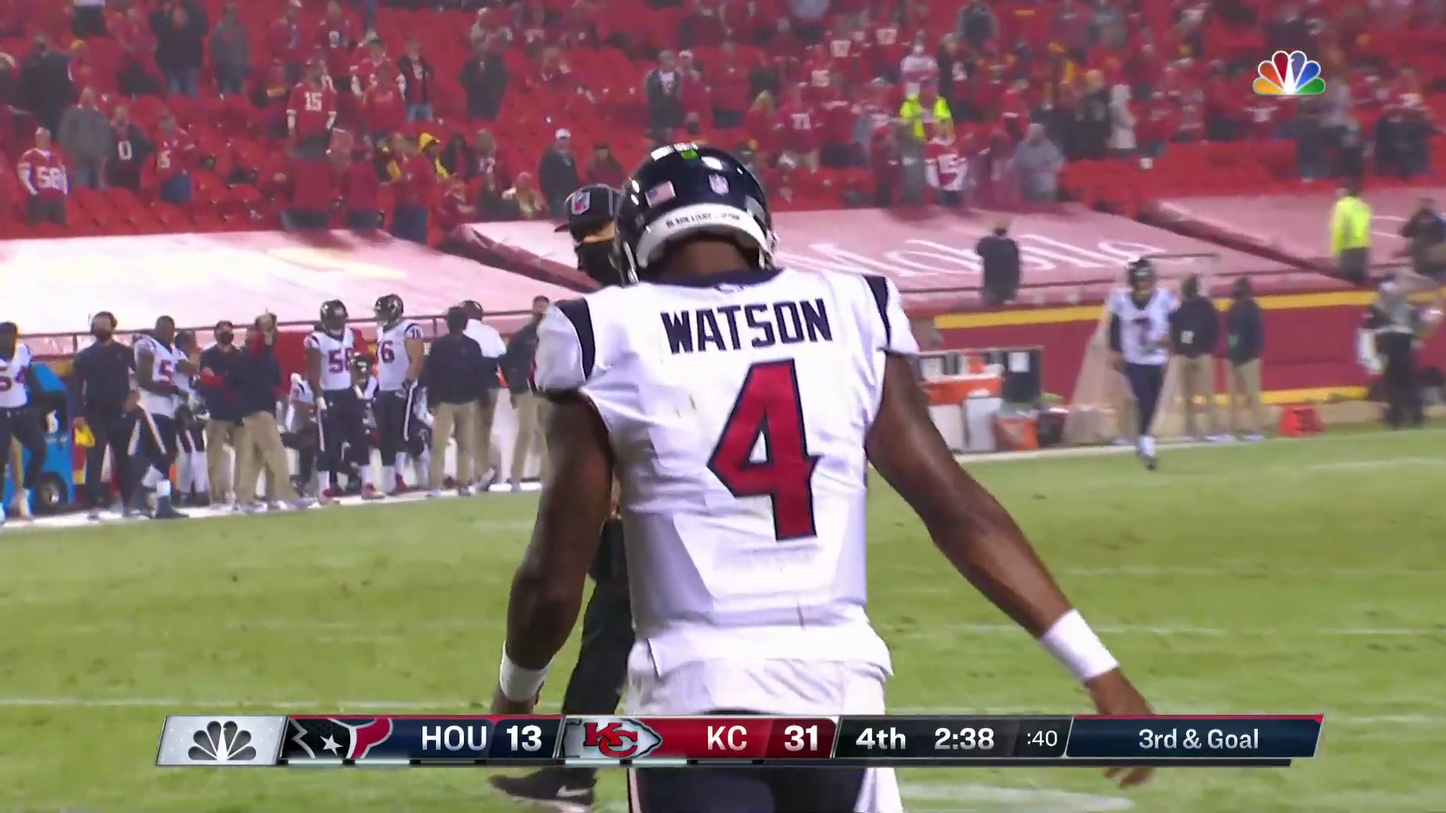Player: (521, 130, 1006, 664)
